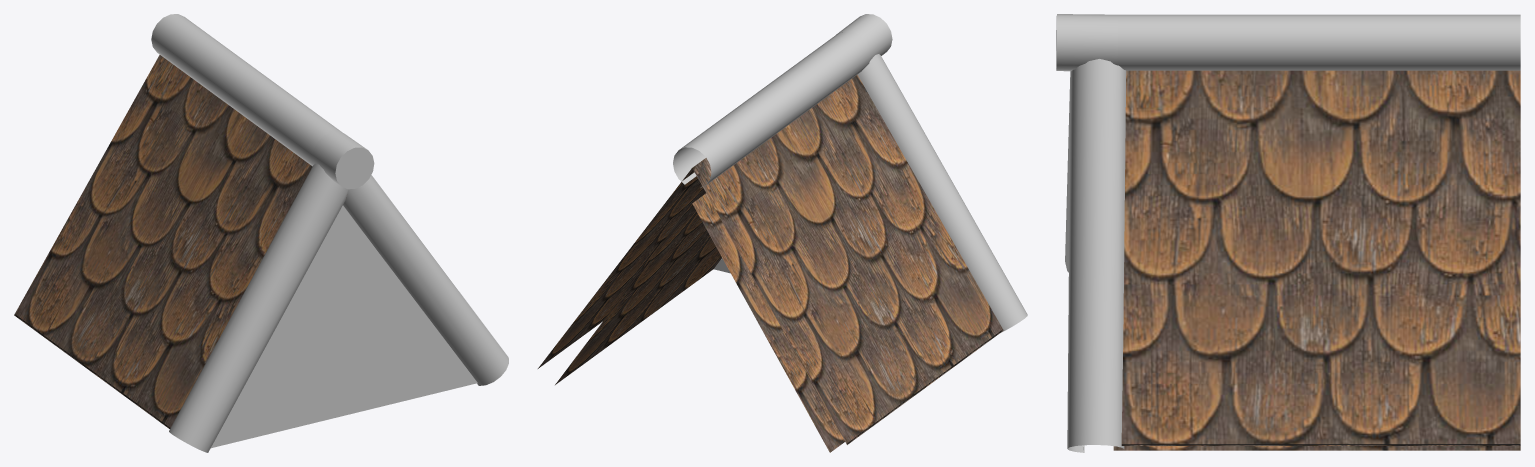
File: Roof_Peak.fbx
3 views of the same model, side by side, from view 1: azimuth 30°, elevation 25°; view 2: azimuth 150°, elevation 25°; view 3: azimuth 270°, elevation 25° (orthographic). The views are drawn at different scales.
Parts seen in each view (by area): view 1: Roof_Peak, Edge, Angular_Logs, Log, FrontLog; view 2: Roof_Peak, Log, Angular_Logs, FrontLog; view 3: Roof_Peak, Log, Angular_Logs, FrontLog.
Part boxes in pixels (x1,y1,x2,y2): Roof_Peak: (14,55,312,428); Edge: (211,205,477,448); Angular_Logs: (169,163,508,452); Log: (151,14,341,166); FrontLog: (312,130,374,189); Roof_Peak: (538,74,1003,452); Log: (673,32,870,187); Angular_Logs: (857,54,1027,332); FrontLog: (836,14,892,61); Roof_Peak: (1113,70,1520,450); Log: (1113,14,1520,70); Angular_Logs: (1065,59,1126,452); FrontLog: (1056,14,1117,71).
Size of the model in its own units: 240 by 191 by 228.
